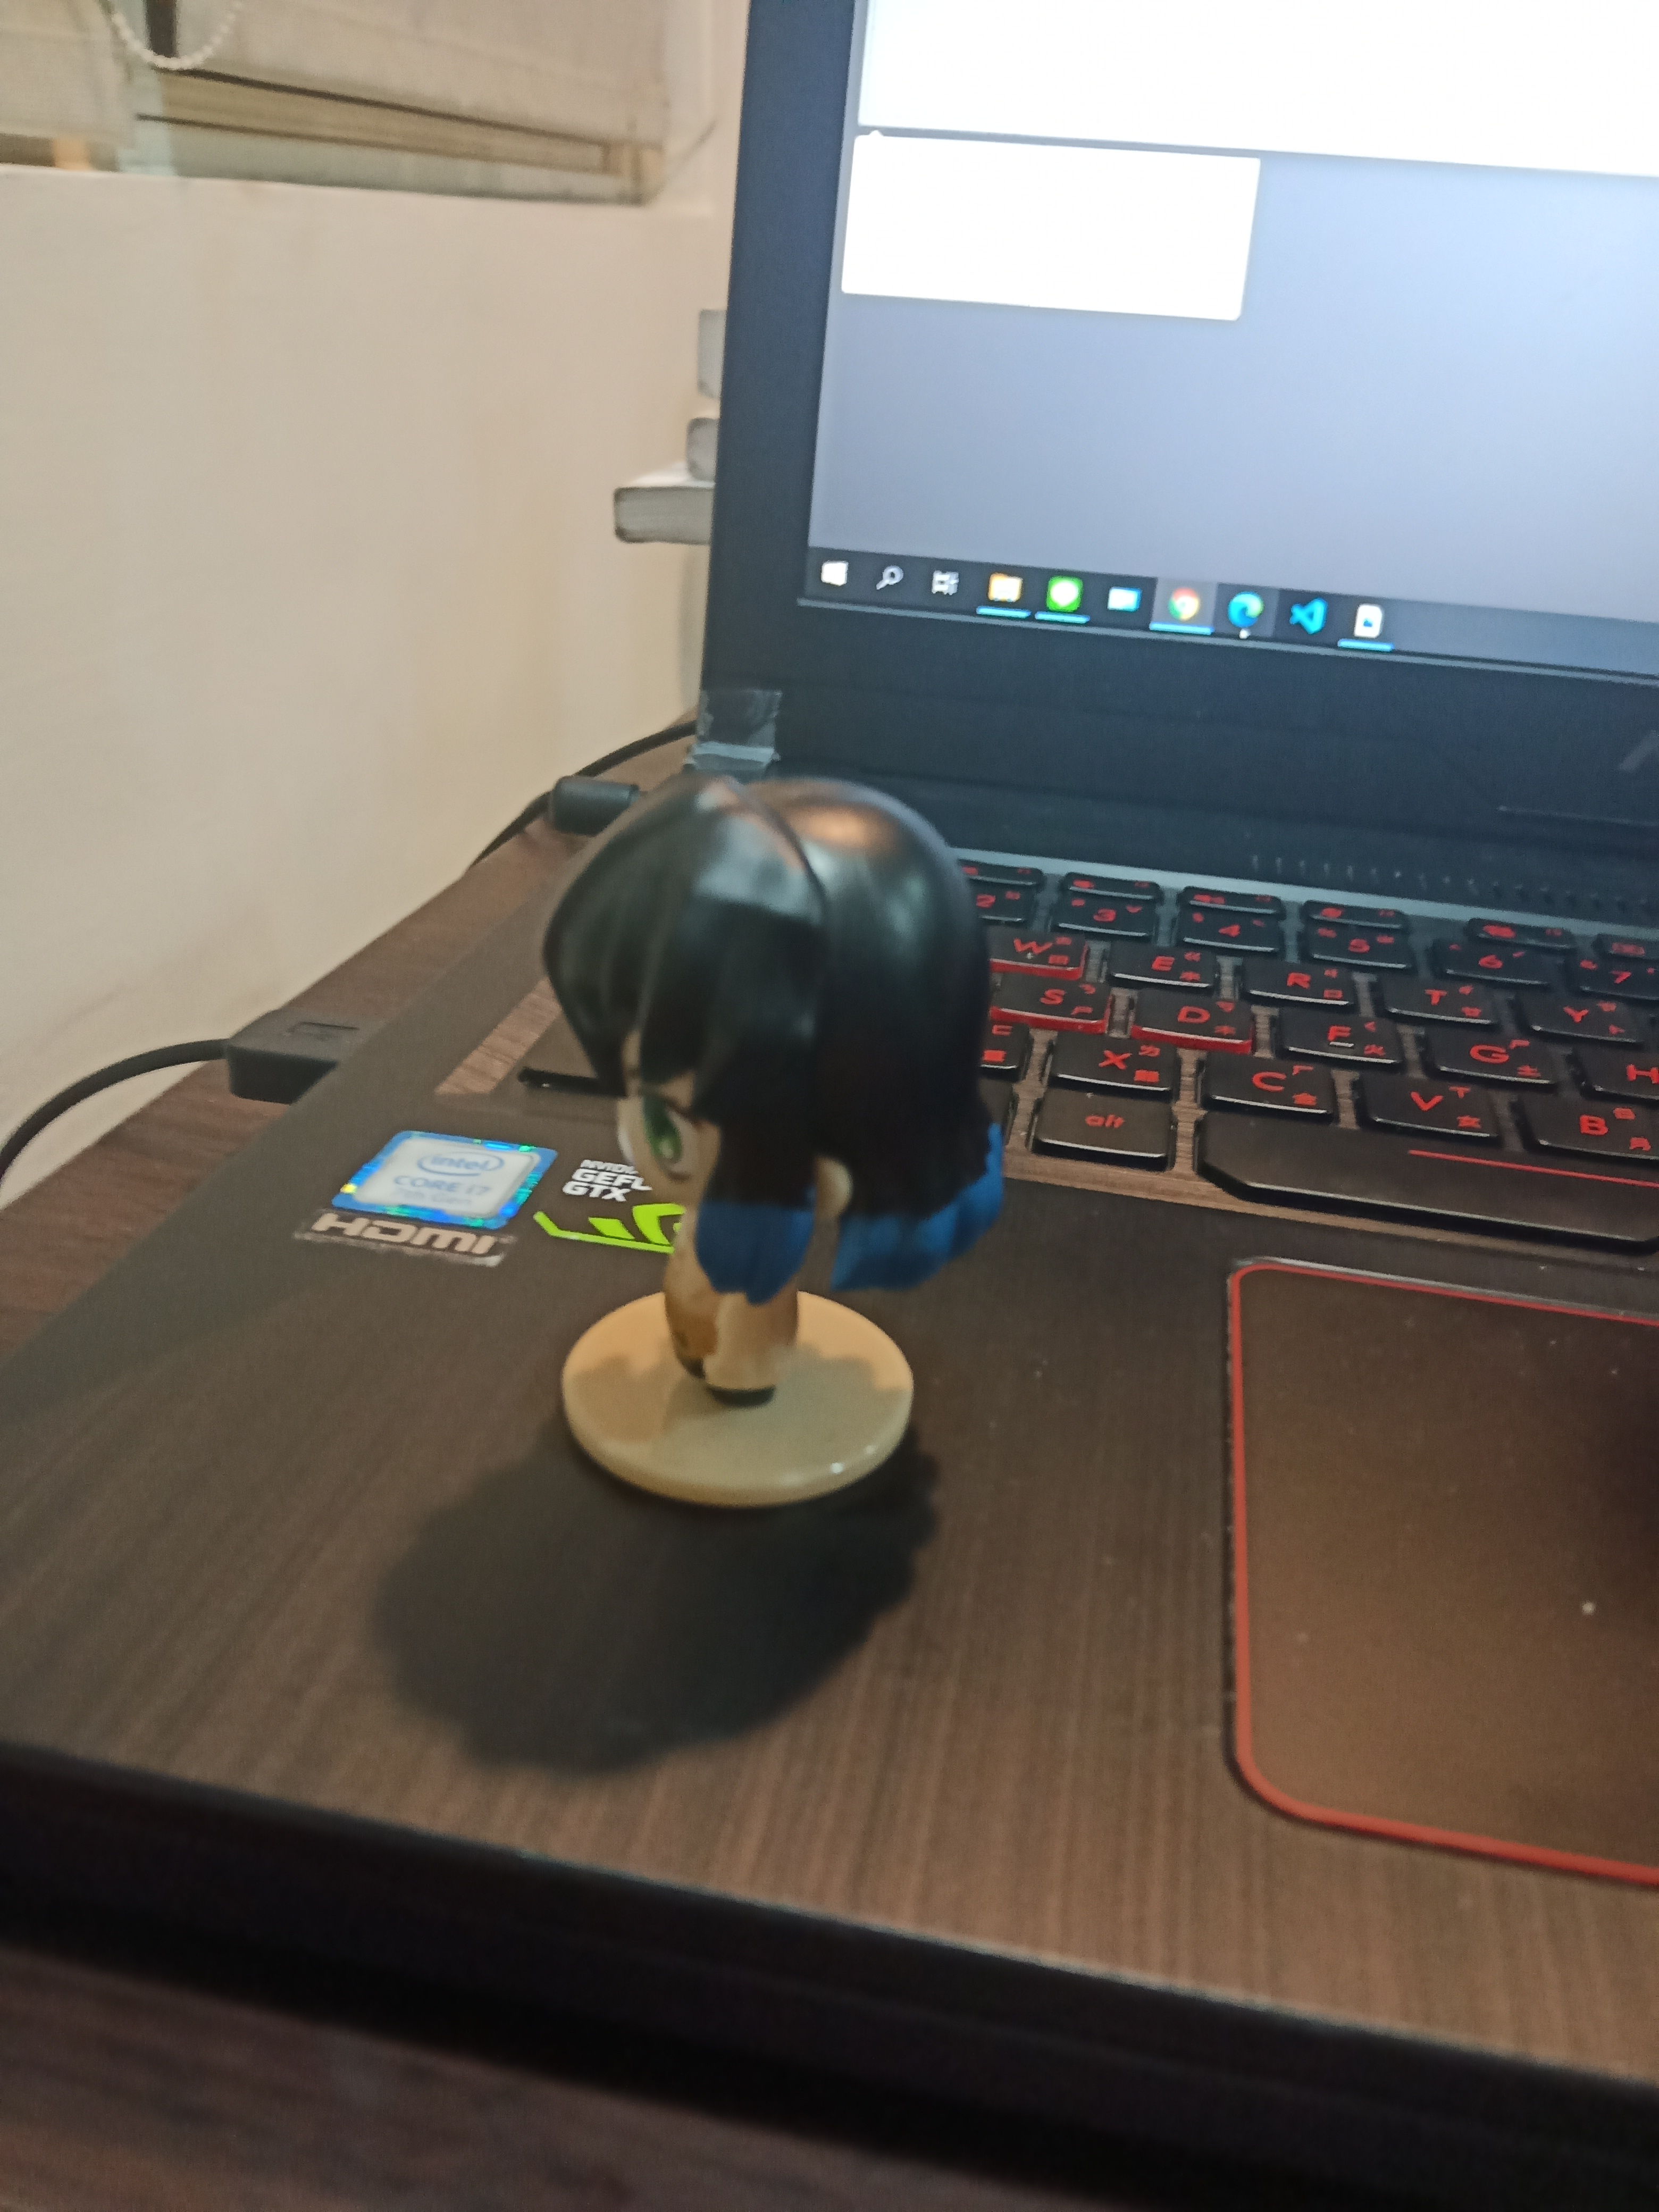Inosuke: (519, 761, 1021, 1526)
